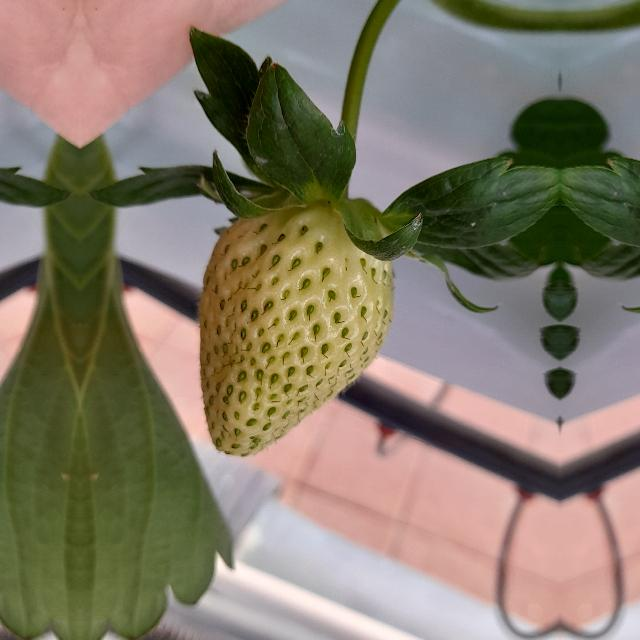Health_25: (194, 196, 396, 458)
